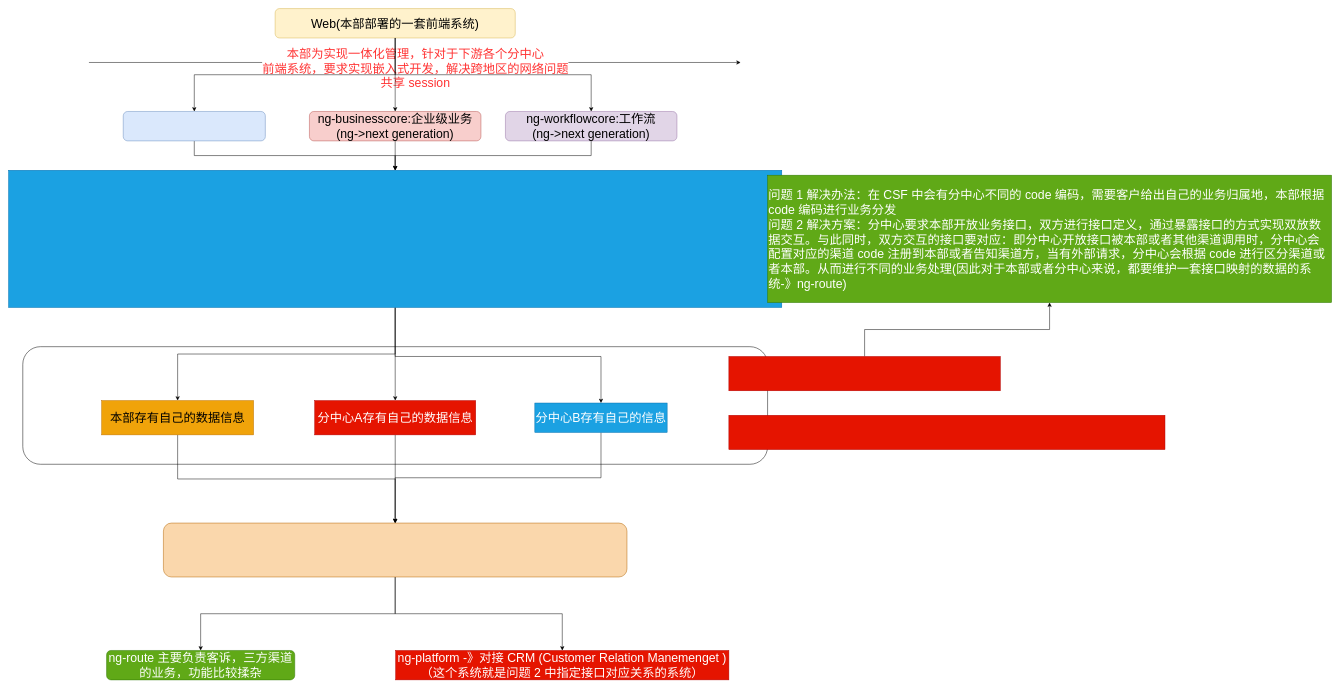
Image size: 1340x688. Some labels were removed from this diagram. The centre of each missing label's shape, as x and y in pixels:
CSF(Customer Service Framwork): 客户服务框架，本部部署，各分部的所有路由信息都要注册到这个系统中-》类似于 ZK 的分布式管理: the point at 395,238
ng-localcore:本地业务 (ng->next generation): the point at 194,126
ng-route(工单处理系统)：因为某系原因：从工单系统中拆分出一套 ng-platform 系统: the point at 395,550
问题 1：那么系统是如何知道不存在于本部的数据是到分中心A查找还是到分中心B查找: the point at 864,373
问题 2：本部数据与分中心的数据如何打通，本部与分中心服务可能不仅仅是跨机房，可能是跨市跨省: the point at 946,432
